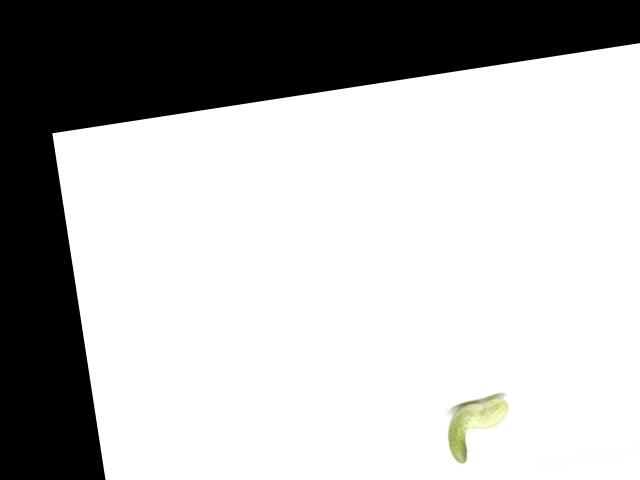cucumber: (442, 395, 515, 464)
